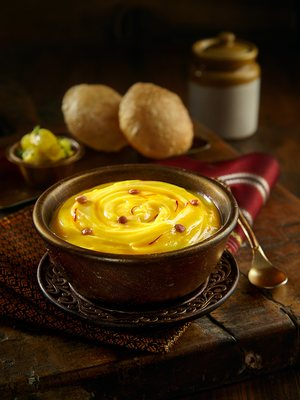pizza: (186, 32, 262, 141)
sushi: (24, 162, 238, 308)
